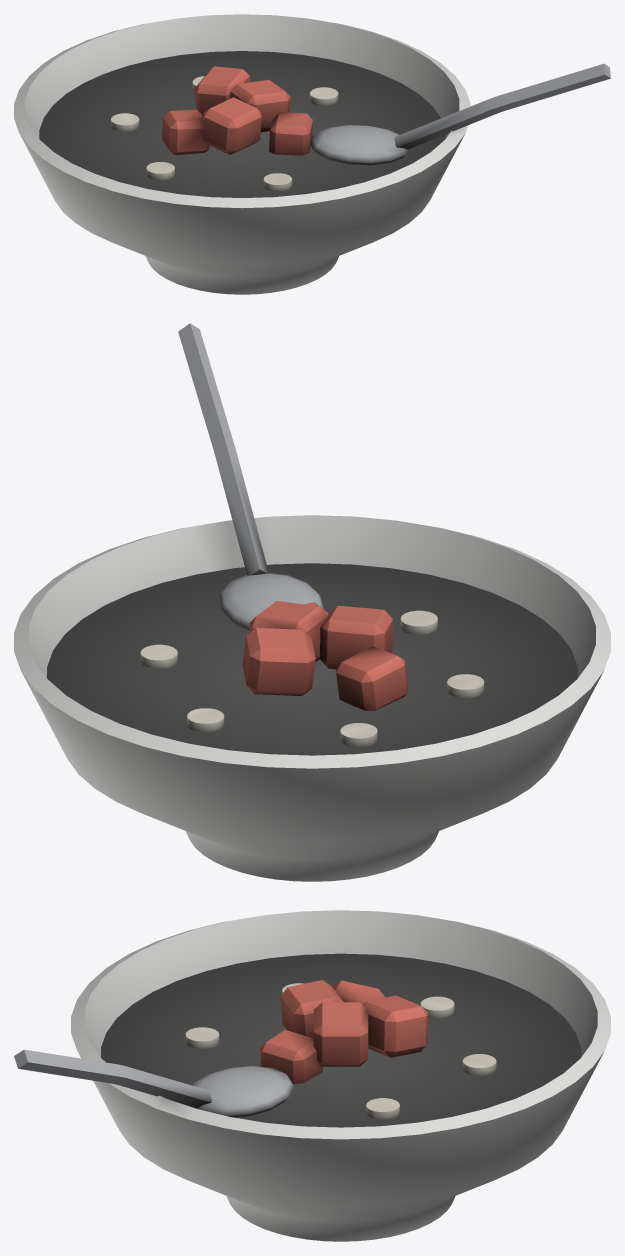
File: meal_congee.glb
3 renders of one model, top to bottom at view 1: azimuth 30°, elevation 25°; view 2: azimuth 150°, elevation 25°; view 3: azimuth 270°, elevation 25°, orthographic. The views are drawn at different scales.
Visible parts, largest first — view 1: PART; view 2: PART; view 3: PART.
Boxes of the visible parts, x1,y1,x2,y2 form: PART: (14,14,610,294); PART: (14,323,610,881); PART: (14,910,610,1241).
Bounding box in the file's own units: 0.1749 × 0.0898 × 0.1764.
